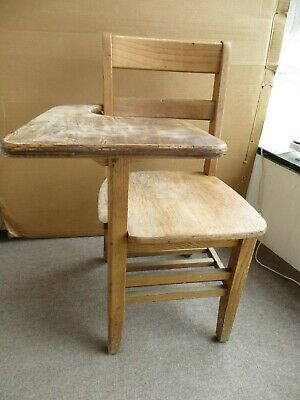desk_025.jpg: (1, 21, 243, 355)
